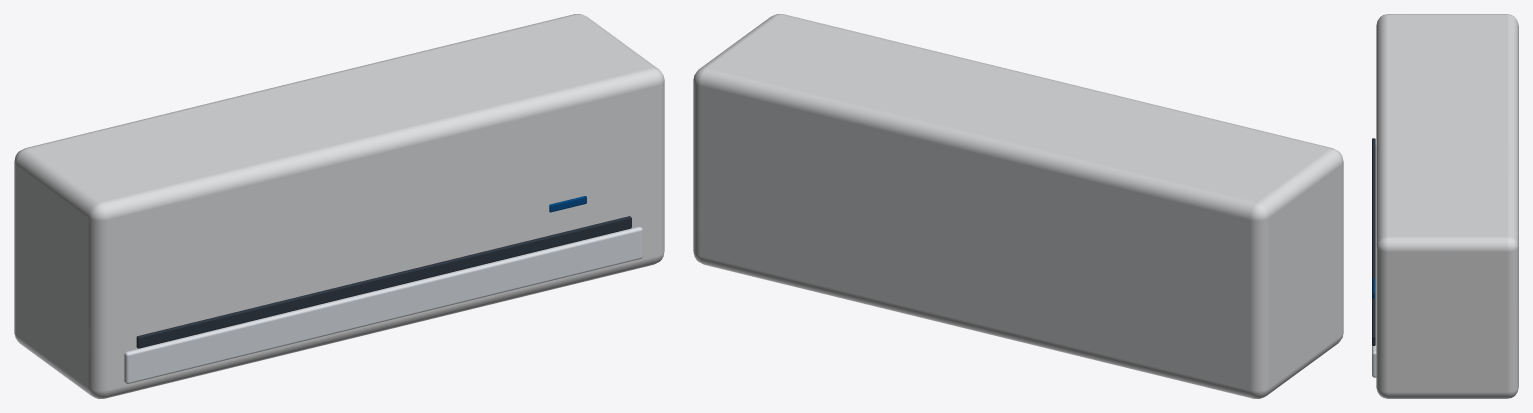
The model's file is wall-m.glb.
The picture shows the model from 3 angles, left to right: view 1: azimuth 30°, elevation 25°; view 2: azimuth 150°, elevation 25°; view 3: azimuth 270°, elevation 25°; orthographic projection. The views are drawn at different scales.
Bounding box in the file's own units: 0.92 × 0.3 × 0.247.
